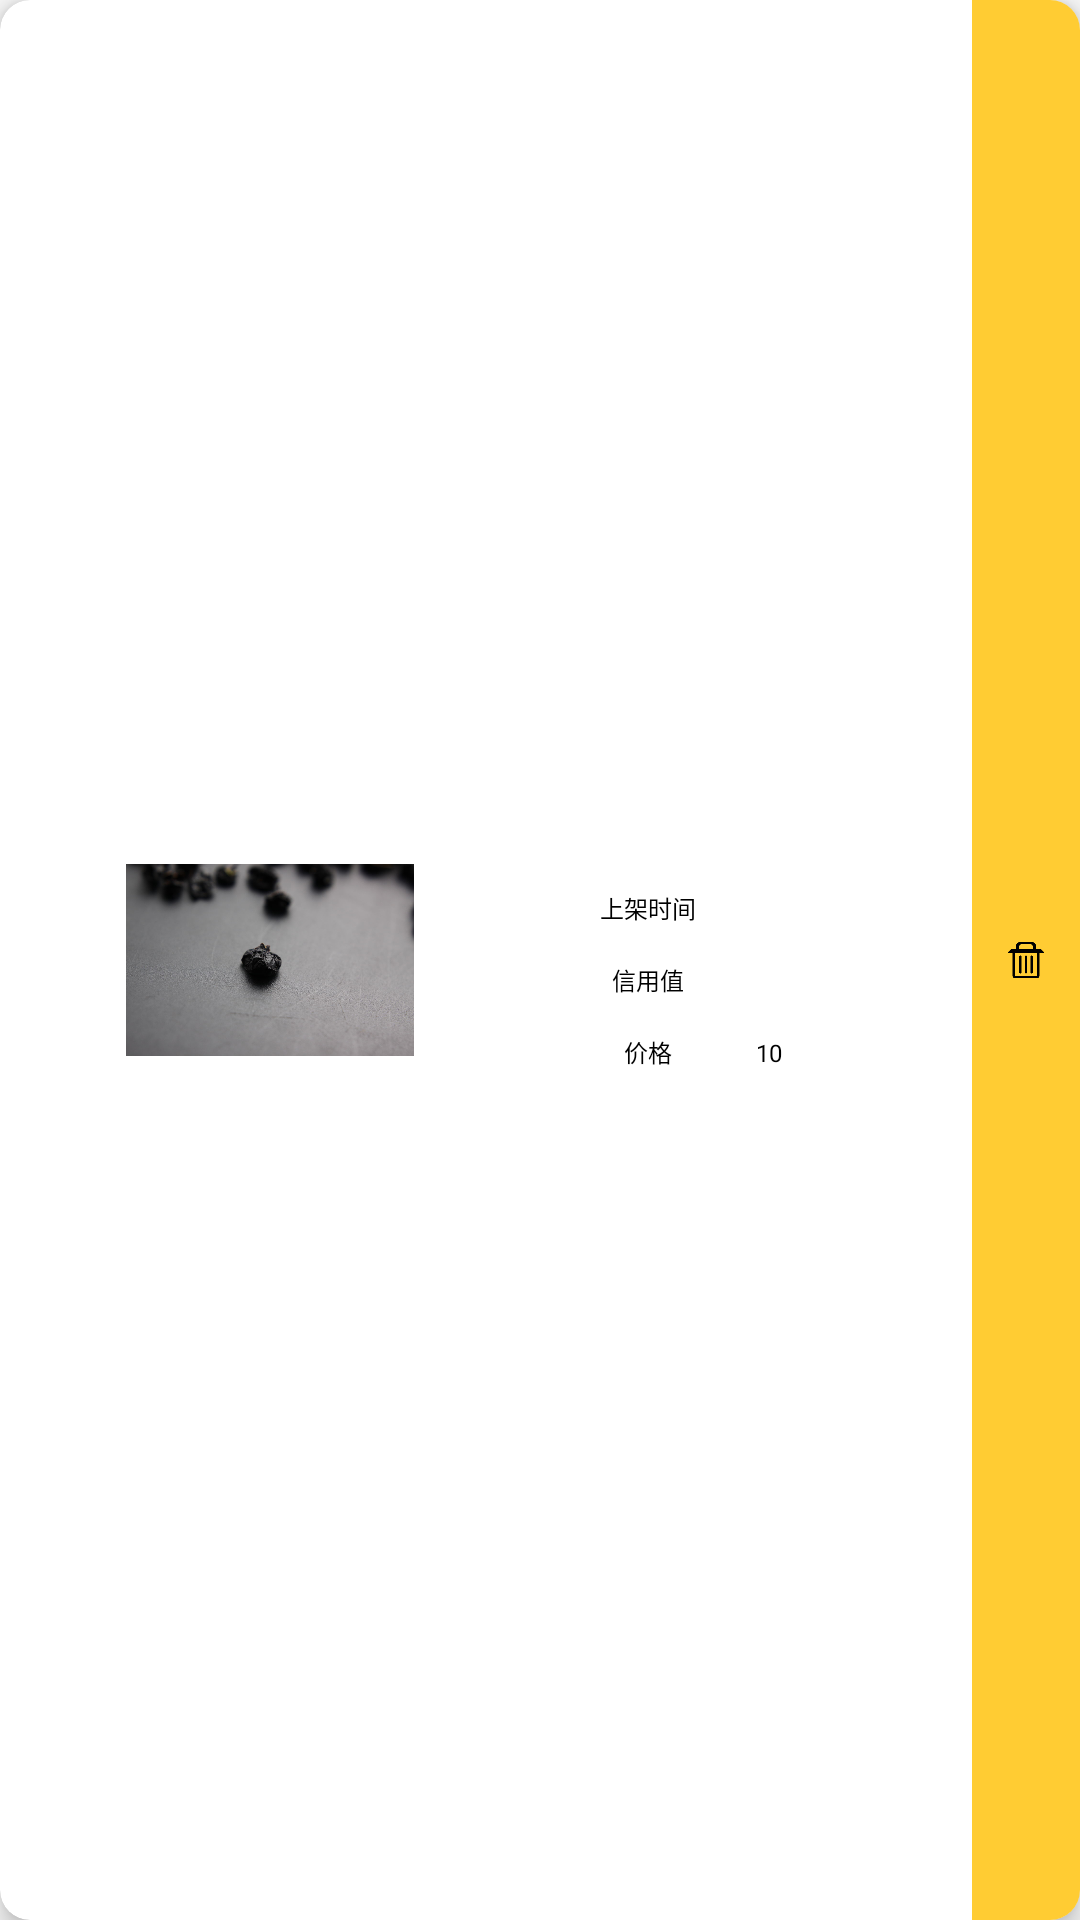

Icons on this 1080 × 1920 Android screen, each with the point to tap as (x,y):
ftuit: (270,960)
